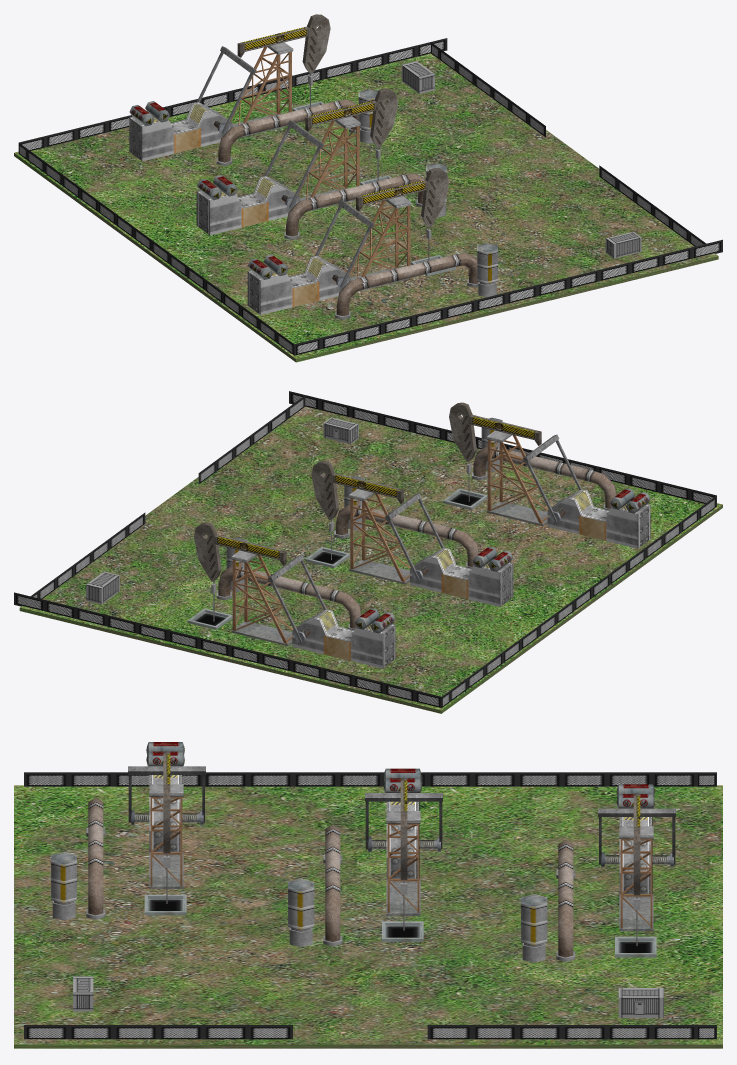
3 renders of one model, top to bottom at view 1: azimuth 30°, elevation 25°; view 2: azimuth 150°, elevation 25°; view 3: azimuth 270°, elevation 25°, orthographic. The views are drawn at different scales.
Parts seen in each view (by area): view 1: Box267, Box269, Box265, Box268, Cylinder206, Cylinder208, Cylinder207, container_030, container_031; view 2: Box267, Box265, Box269, Box268, Cylinder206, Cylinder208, Cylinder207, container_030, container_031; view 3: Box267, Box268, Box269, Box265, Cylinder208, Cylinder206, Cylinder207, container_030, container_031, Plane066, Plane074, Plane075 (+21 smaller).
Part boxes in pixels (left/top/right/bottom): Box267: left=14, top=53, right=718, bottom=362; Box269: left=129, top=14, right=330, bottom=161; Box265: left=247, top=168, right=448, bottom=314; Box268: left=196, top=88, right=398, bottom=235; Cylinder206: left=335, top=227, right=497, bottom=319; Cylinder208: left=216, top=73, right=377, bottom=165; Cylinder207: left=284, top=147, right=446, bottom=239; container_030: left=401, top=61, right=434, bottom=93; container_031: left=605, top=231, right=641, bottom=258; Box267: left=19, top=406, right=722, bottom=713; Box265: left=449, top=402, right=650, bottom=548; Box269: left=193, top=522, right=395, bottom=668; Box268: left=311, top=461, right=513, bottom=606; Cylinder206: left=443, top=417, right=616, bottom=510; Cylinder208: left=187, top=537, right=361, bottom=630; Cylinder207: left=305, top=476, right=479, bottom=568; container_030: left=86, top=571, right=119, bottom=604; container_031: left=323, top=417, right=358, bottom=444; Box267: left=14, top=785, right=722, bottom=1048; Box268: left=365, top=768, right=442, bottom=915; Box269: left=598, top=784, right=675, bottom=931; Box265: left=128, top=742, right=205, bottom=888; Cylinder208: left=521, top=840, right=656, bottom=962; Cylinder206: left=51, top=798, right=186, bottom=920; Cylinder207: left=288, top=824, right=423, bottom=947; container_030: left=618, top=988, right=663, bottom=1017; container_031: left=73, top=976, right=93, bottom=1011; Plane066: left=68, top=772, right=113, bottom=786; Plane074: left=427, top=772, right=472, bottom=786; Plane075: left=472, top=772, right=517, bottom=786.
Size of the model in its own units: 129 by 28.6 by 146.
